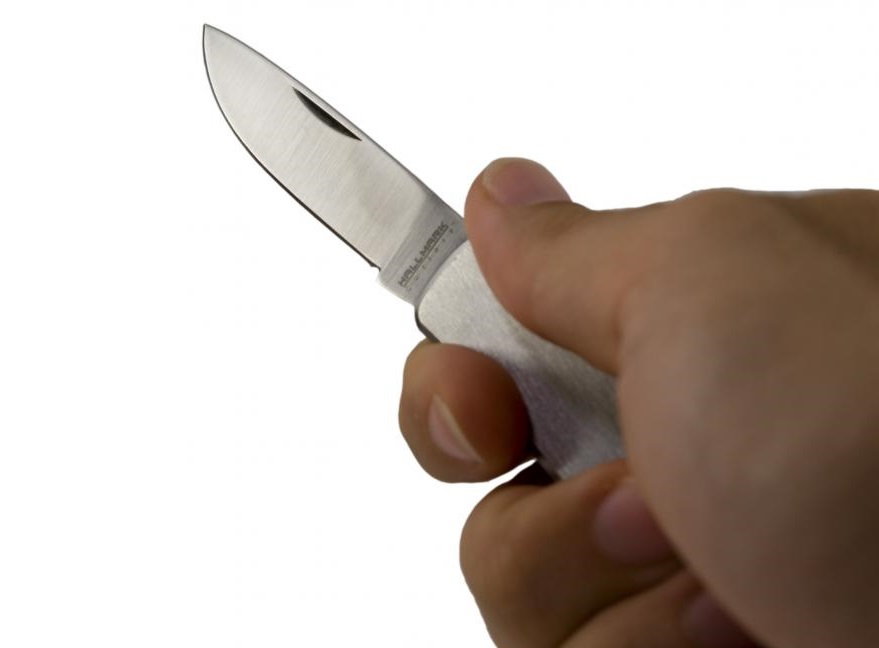knife: (183, 11, 650, 508)
